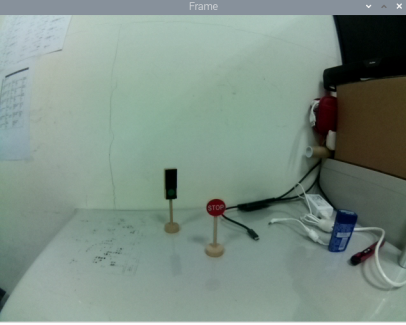Green: (161, 166, 182, 204)
Stop: (205, 196, 227, 217)
